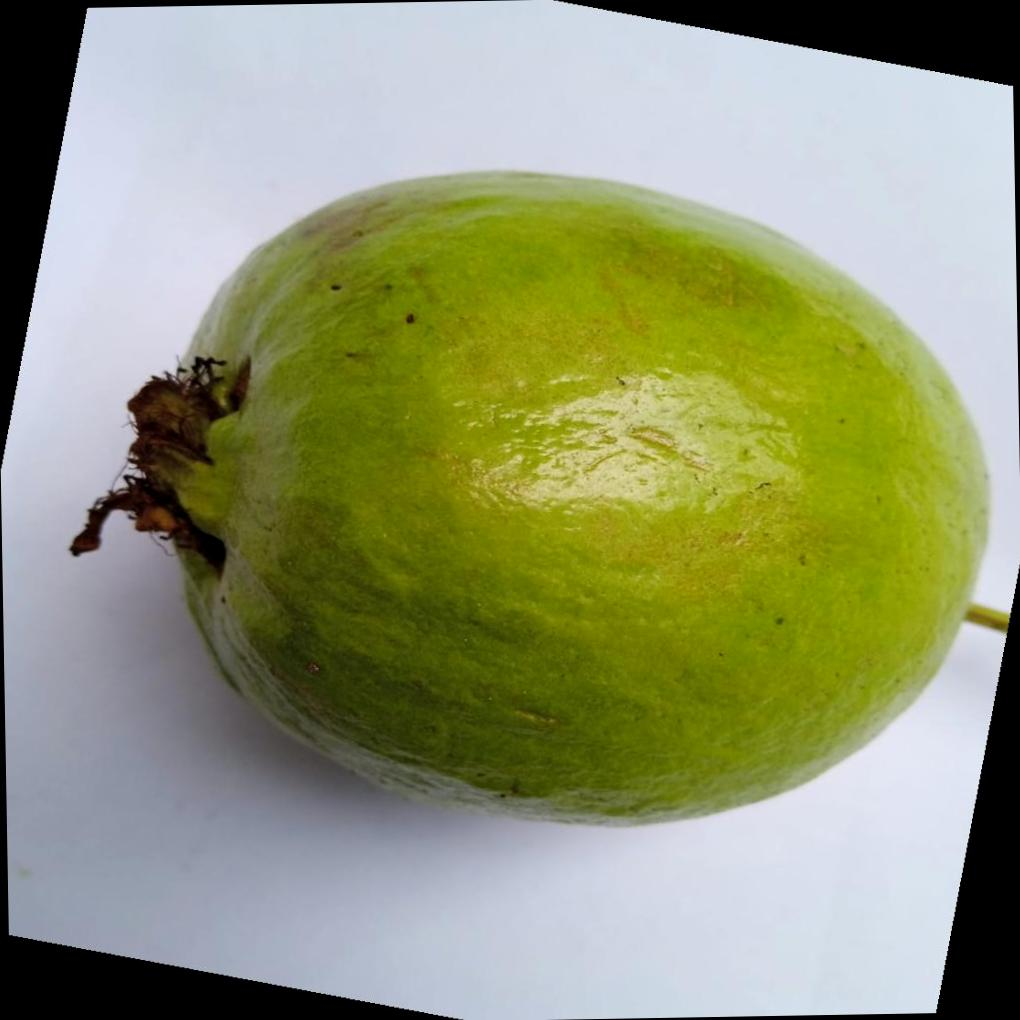FreshGuava: (72, 167, 989, 828)
